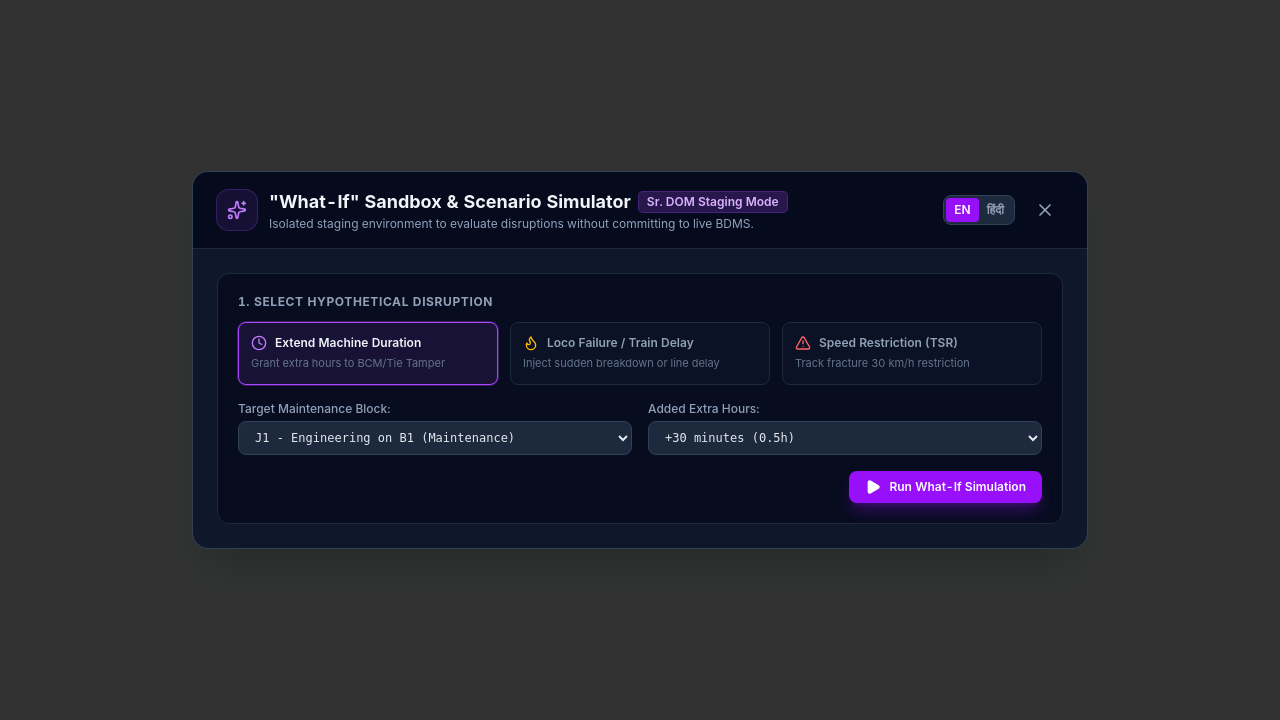
it: What-If Scenario Simulator Modal › renders scenario injection parameters and runs hypothetical simulation
The image size is (1280, 720).
Expected: the heading "\"What-If\" Sandbox & Scenario Simulator" is shown, [269,188,631,216]
Expected: the text "Sr. DOM Staging Mode" is shown, [639,192,787,212]
// Click Run What-If Simulation
Step 1. Click the button "Run What-If Simulation" → (946, 487), box [849,471,1042,503]
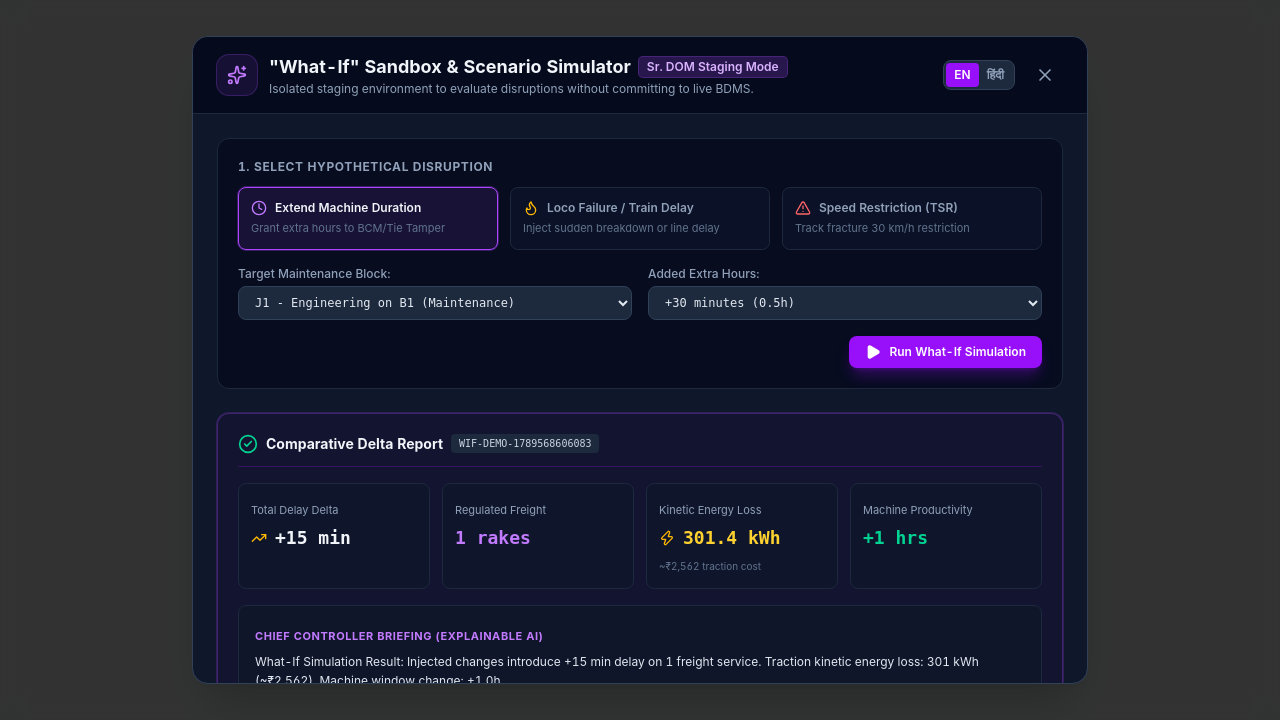
Result: the text "Comparative Delta Report" is shown at [266,434,443,454]
Result: the text "Total Delay Delta" is shown at [251,502,338,516]
Result: the text "Regulated Freight" is shown at [455,502,546,516]
